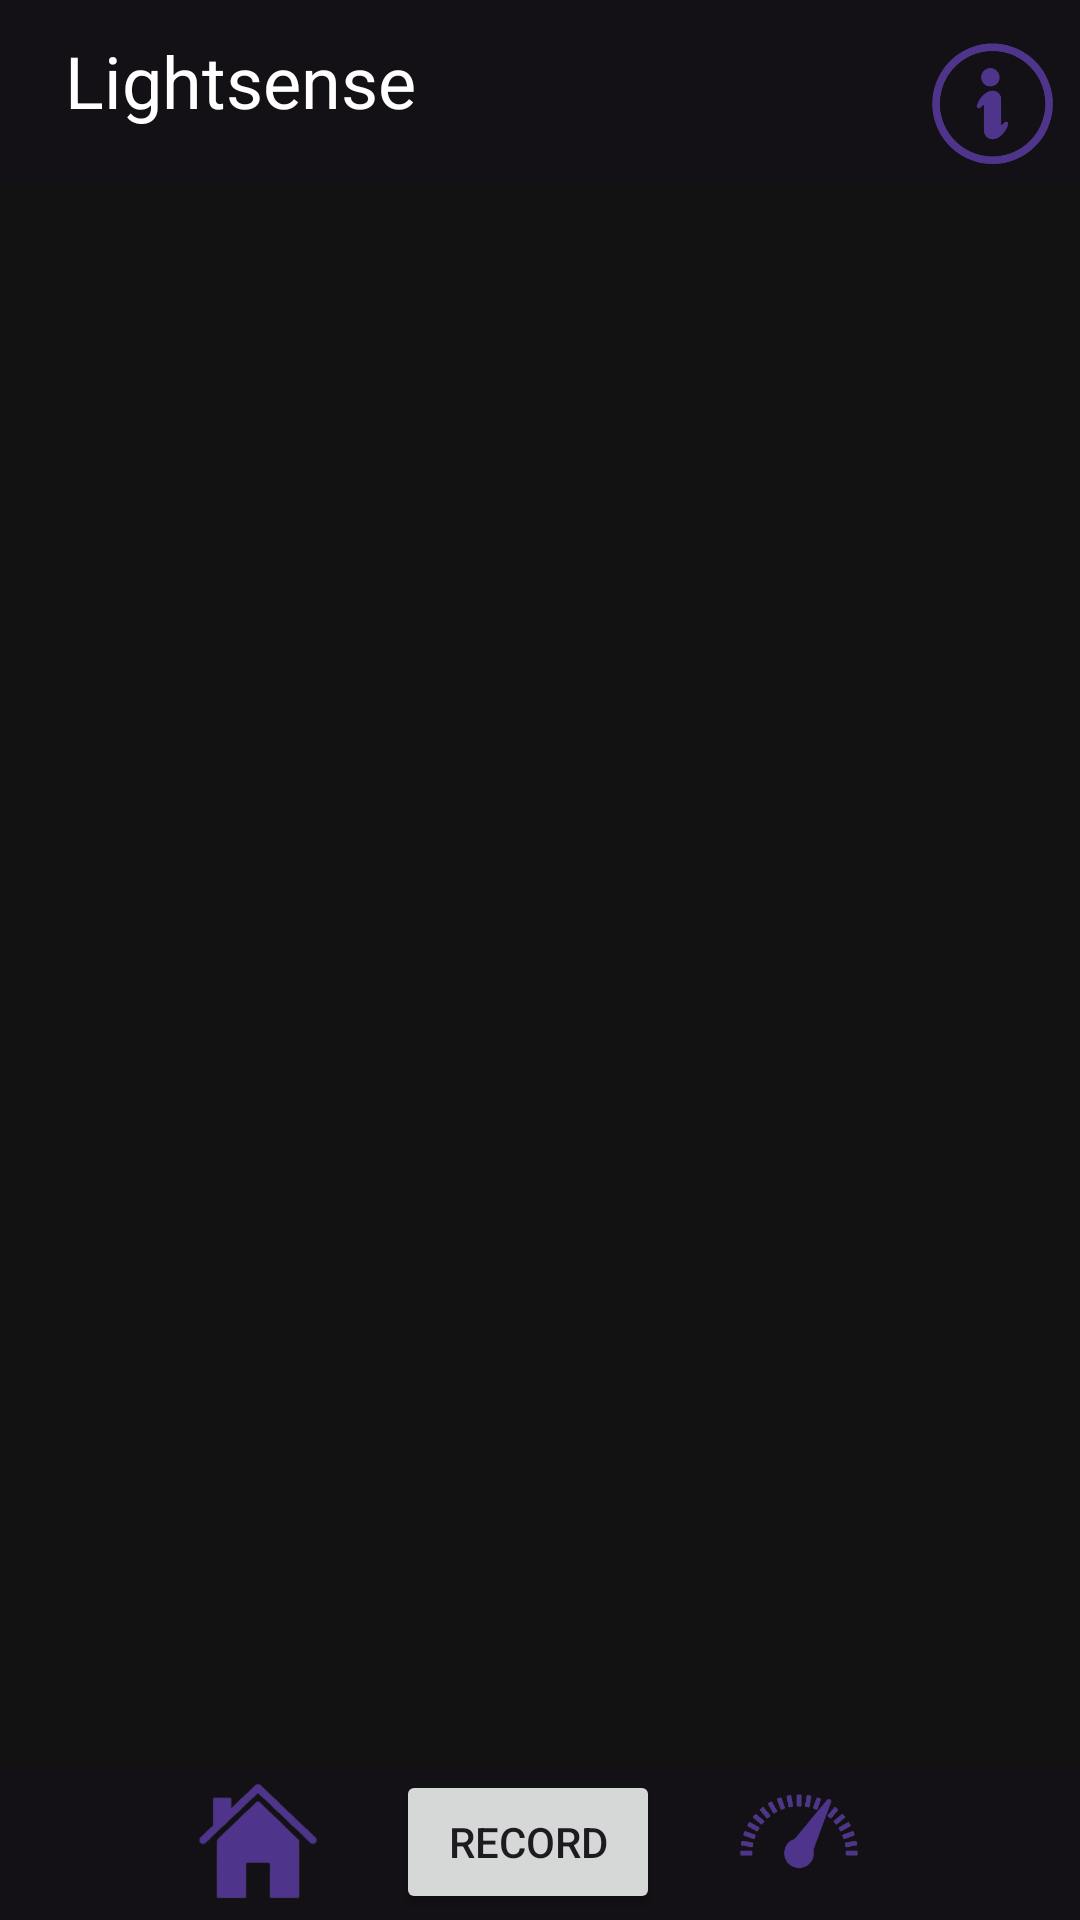

Screen size 1080px×1920px. Icon name, then its box in pixels as (x1, y1, x2, y2):
homeicon: (199, 1784, 317, 1898)
informationicon: (932, 43, 1053, 164)
